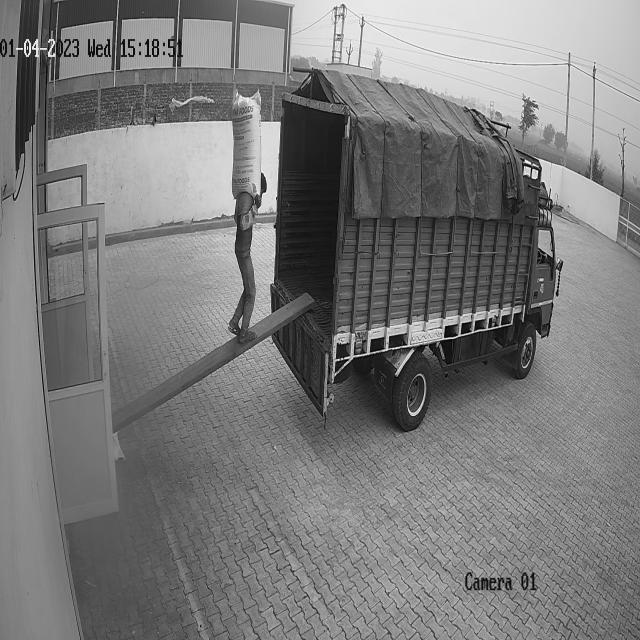sack: (231, 88, 261, 199)
